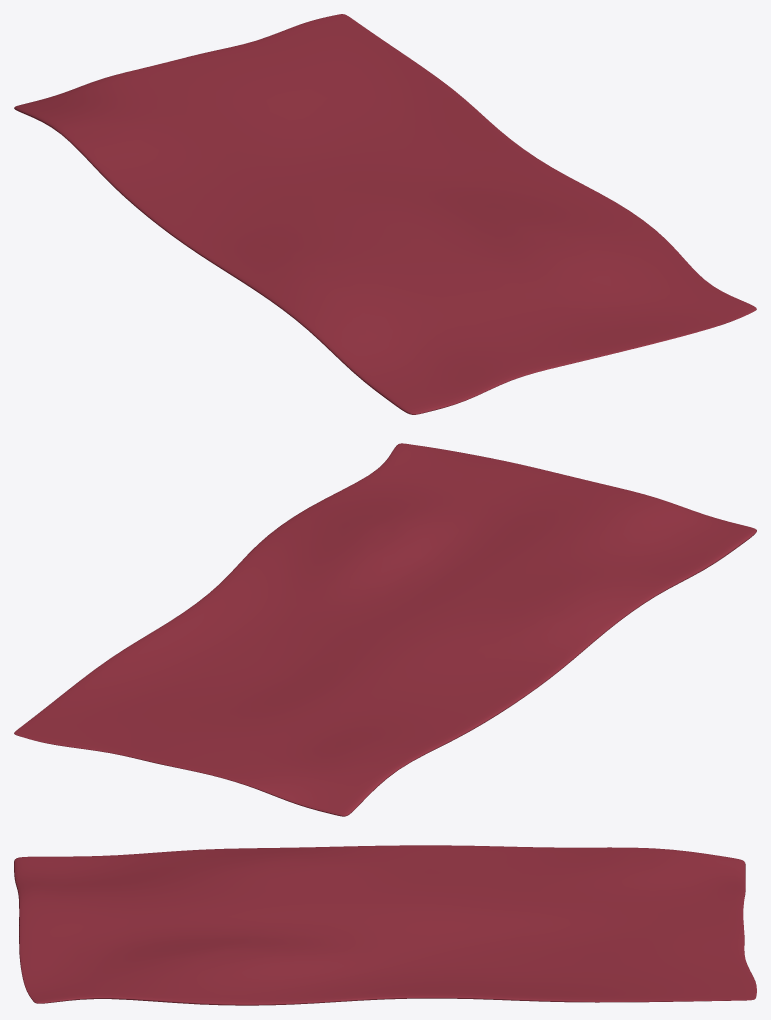
File: Cloth.fbx
3 views of the same model, one above another, from view 1: azimuth 30°, elevation 25°; view 2: azimuth 150°, elevation 25°; view 3: azimuth 270°, elevation 25° (orthographic). The views are drawn at different scales.
Visible parts, largest first — view 1: Cube; view 2: Cube; view 3: Cube.
Part boxes in pixels (bbox=[...]): Cube: bbox=[14, 14, 756, 414]; Cube: bbox=[14, 443, 756, 816]; Cube: bbox=[14, 845, 756, 1005].
Bounding box in the file's own units: 10.34 × 0.5808 × 20.38.
